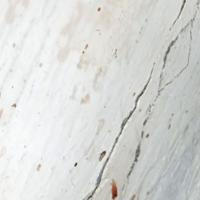crack: (70, 36, 168, 199)
